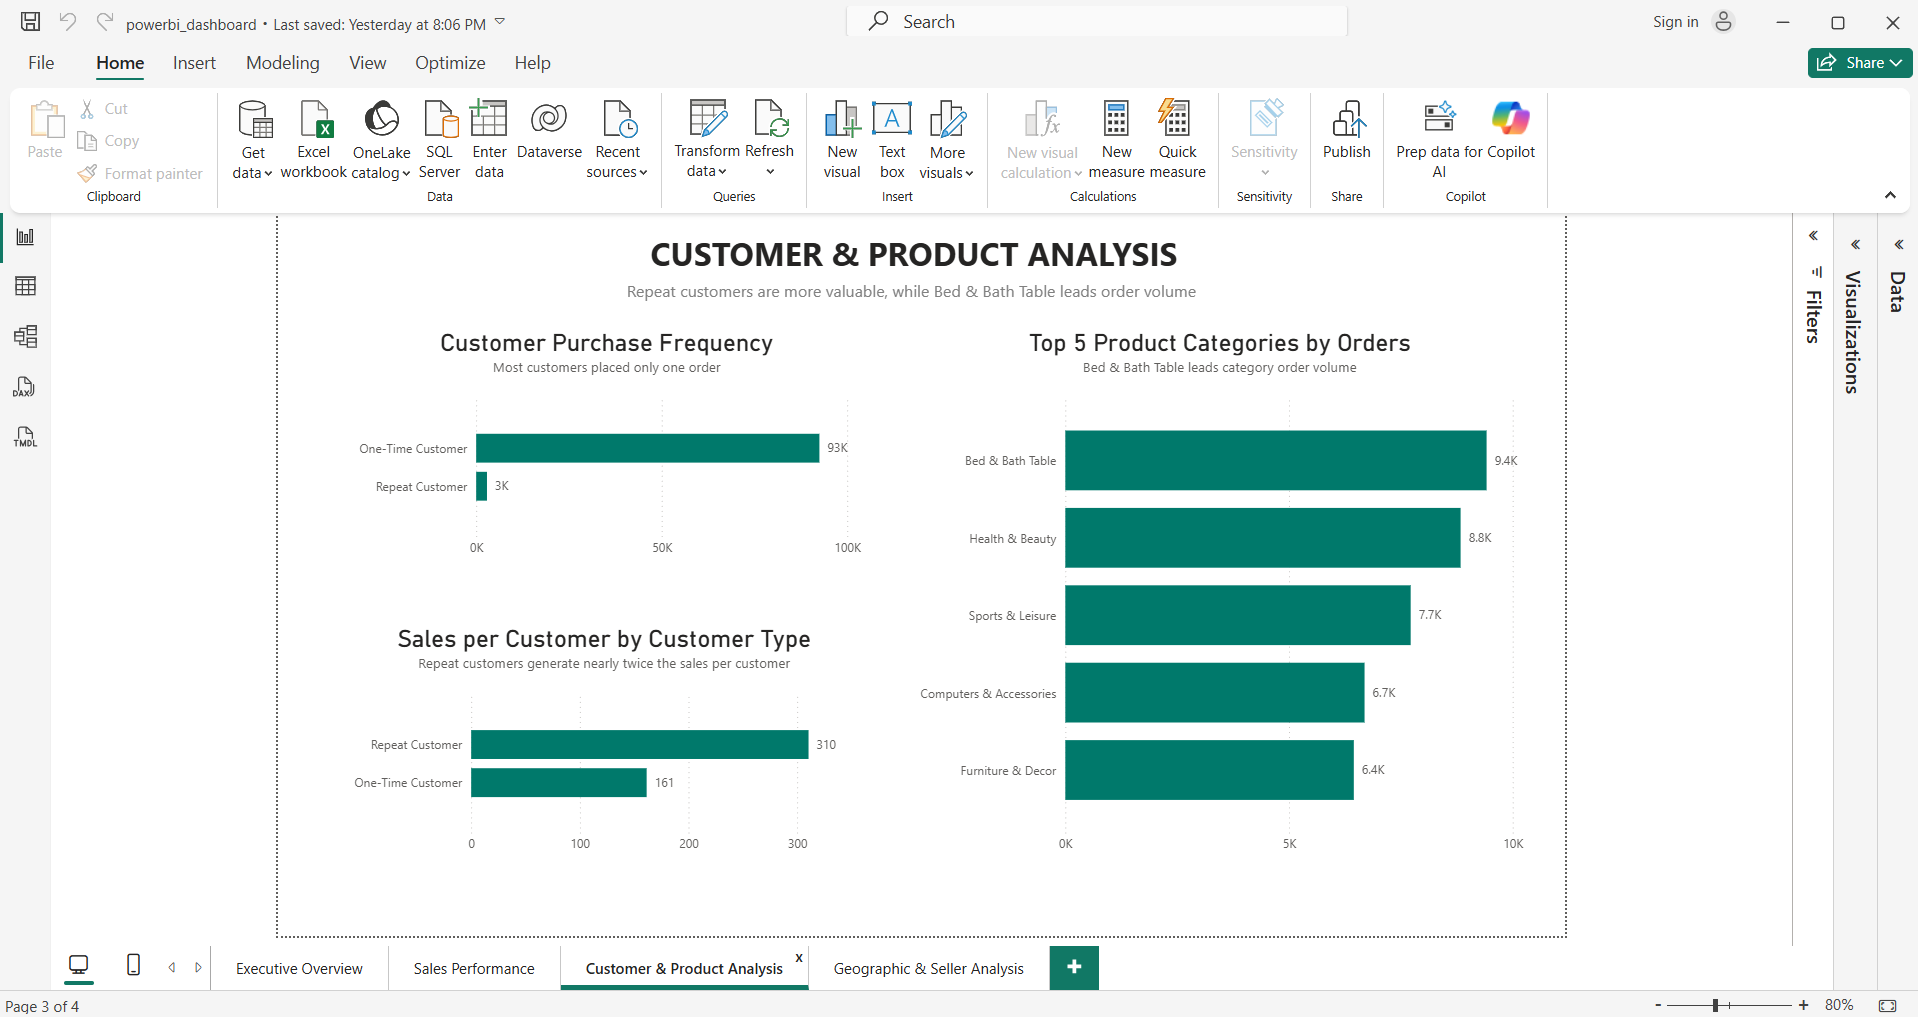

What the dashboard file says about the page in this screenshot:
{"tool":"powerbi","page":{"name":"Customer & Product Analysis","canvas":[1280,720],"ordinal":2},"visuals":[{"type":"clusteredBarChart","title":"Customer Purchase Frequency","fields":{"Category":["Customer Type.Customer Type"],"Y":["Measure Table.Customers by Type"]},"box":[68.4,114.4,517.6,236.1],"z":0},{"type":"clusteredBarChart","title":"Sales per Customer by Customer Type","fields":{"Category":["Customer Type.Customer Type"],"Y":["Measure Table.Sales per Customer by Type"]},"box":[63.4,409.3,522.5,236.4],"z":1000},{"type":"clusteredBarChart","title":"Top 5 Product Categories by Orders","fields":{"Category":["gold dim_products.Category Display"],"Y":["Measure Table.Total Orders"]},"box":[625.7,114.4,623.2,531.2],"z":2000},{"type":"textbox","box":[365.7,13.7,549.8,61],"z":3000},{"type":"textbox","box":[342,60.5,596.3,45.4],"z":4000}]}

Visuals, with their boxes on the page's 1280x720 design canvas (x1, y1, x2, y2). These are canvas units, not pixel positions in the 1918x1017 screenshot, which may show the page scaled, cropped or inside an application window:
"Customer Purchase Frequency" clusteredBarChart: BBox(68, 114, 586, 350)
"Sales per Customer by Customer Type" clusteredBarChart: BBox(63, 409, 586, 646)
"Top 5 Product Categories by Orders" clusteredBarChart: BBox(626, 114, 1249, 646)
textbox: BBox(366, 14, 916, 75)
textbox: BBox(342, 60, 938, 106)
